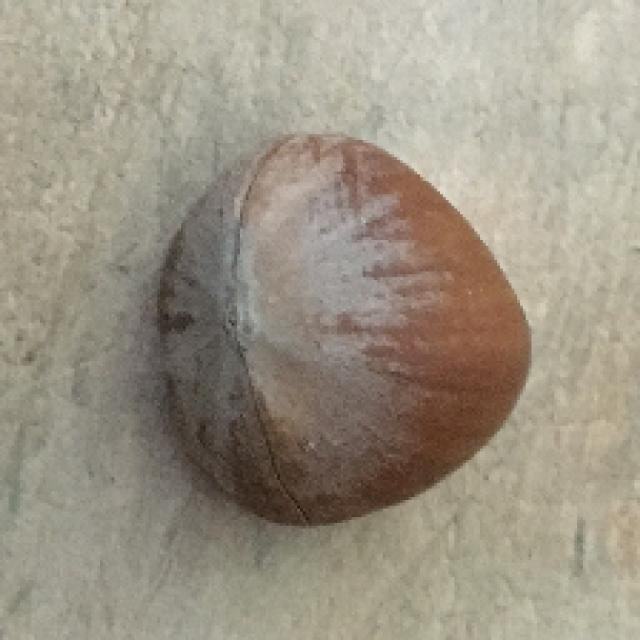qualityHazelnut: (164, 128, 537, 532)
